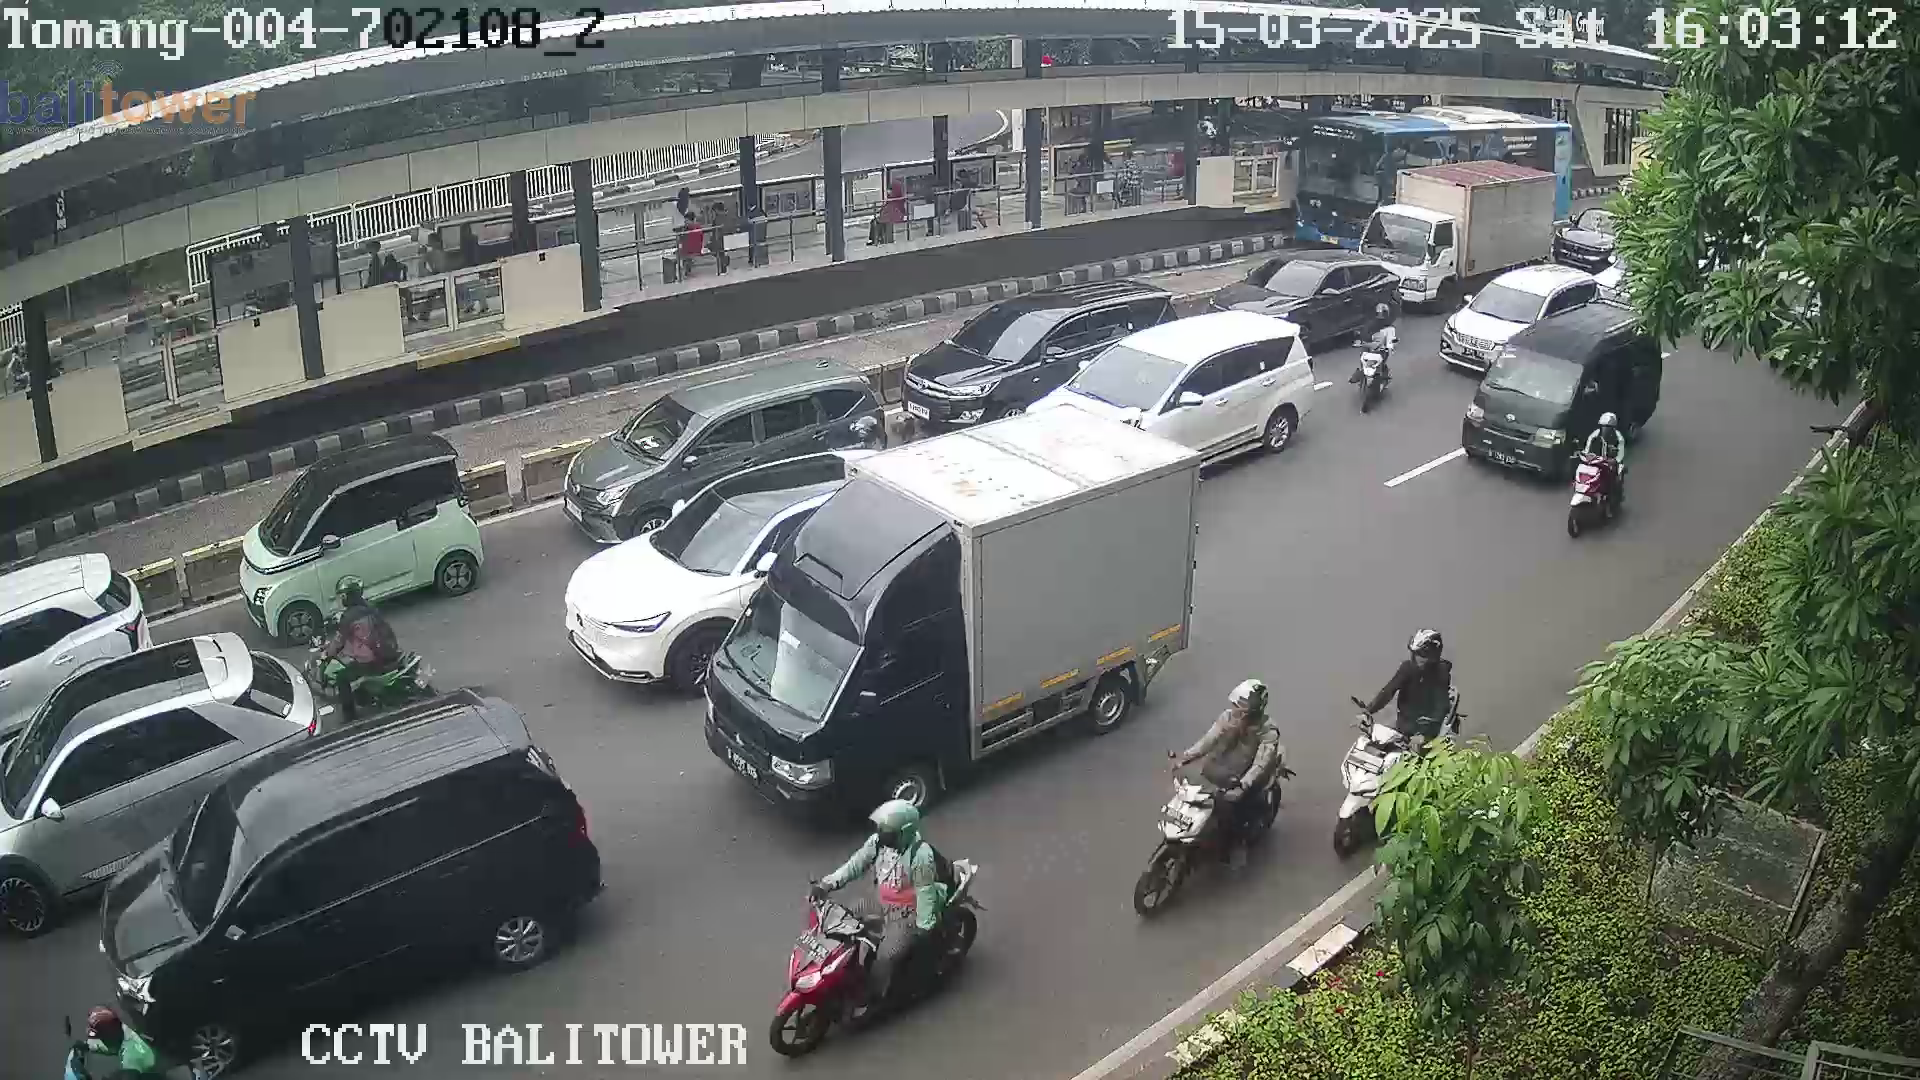half-face helmet: (863, 798, 927, 853), (1219, 676, 1274, 722), (1408, 624, 1447, 678), (333, 573, 374, 608), (1598, 412, 1633, 447)
